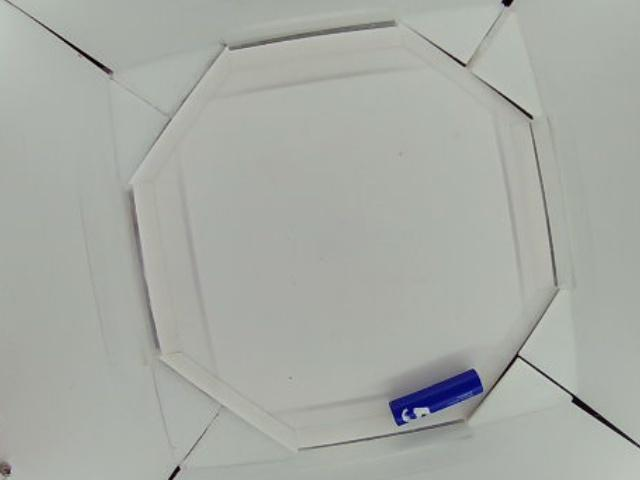Battery: (389, 367, 484, 426)
